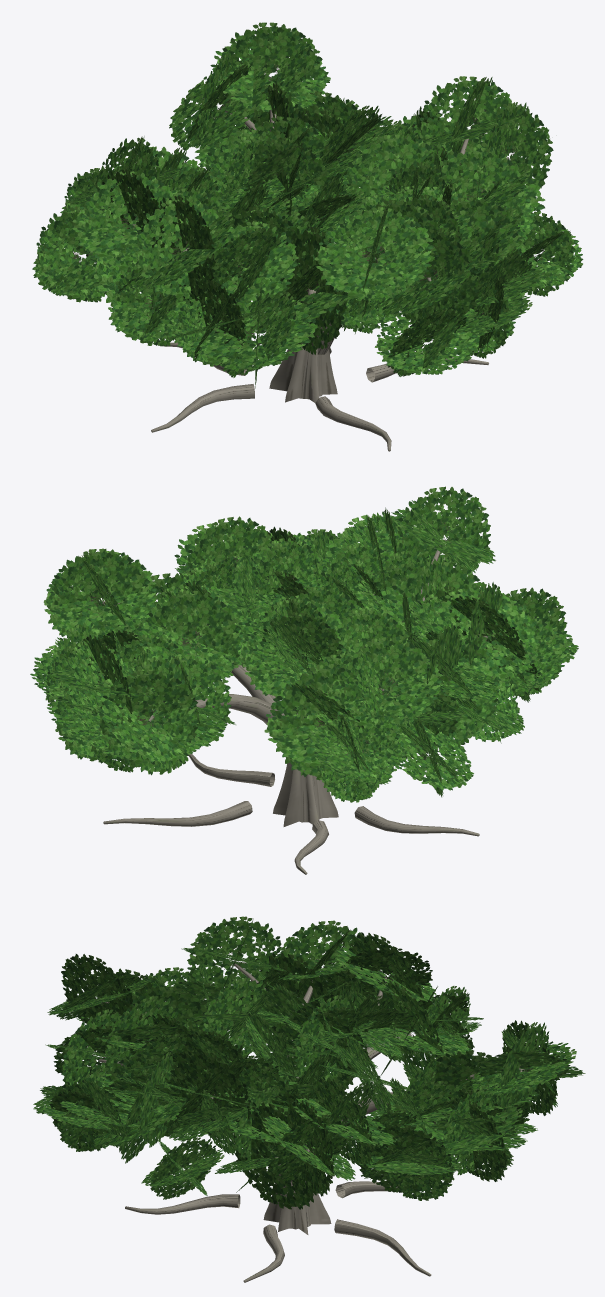
The model's file is rain-tree.glb.
The picture shows the model from 3 angles, top to bottom: view 1: azimuth 30°, elevation 25°; view 2: azimuth 150°, elevation 25°; view 3: azimuth 270°, elevation 25°; orthographic projection. The views are drawn at different scales.
Parts seen in each view (by area): view 1: BigTree-rain-tree; view 2: BigTree-rain-tree; view 3: BigTree-rain-tree.
Part boxes in pixels (x1,y1,x2,y2): BigTree-rain-tree: [32, 22, 583, 451]; BigTree-rain-tree: [30, 486, 578, 874]; BigTree-rain-tree: [33, 916, 585, 1282].
Size of the model in its own units: 23.72 by 12.4 by 25.68.
1 material, 1 textured.
